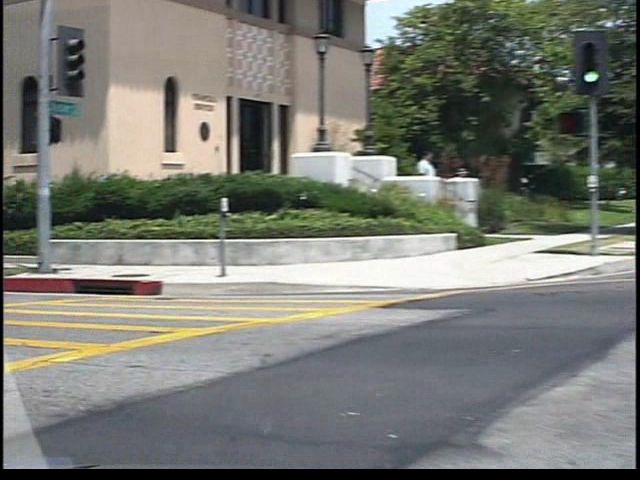person: (399, 147, 423, 222)
